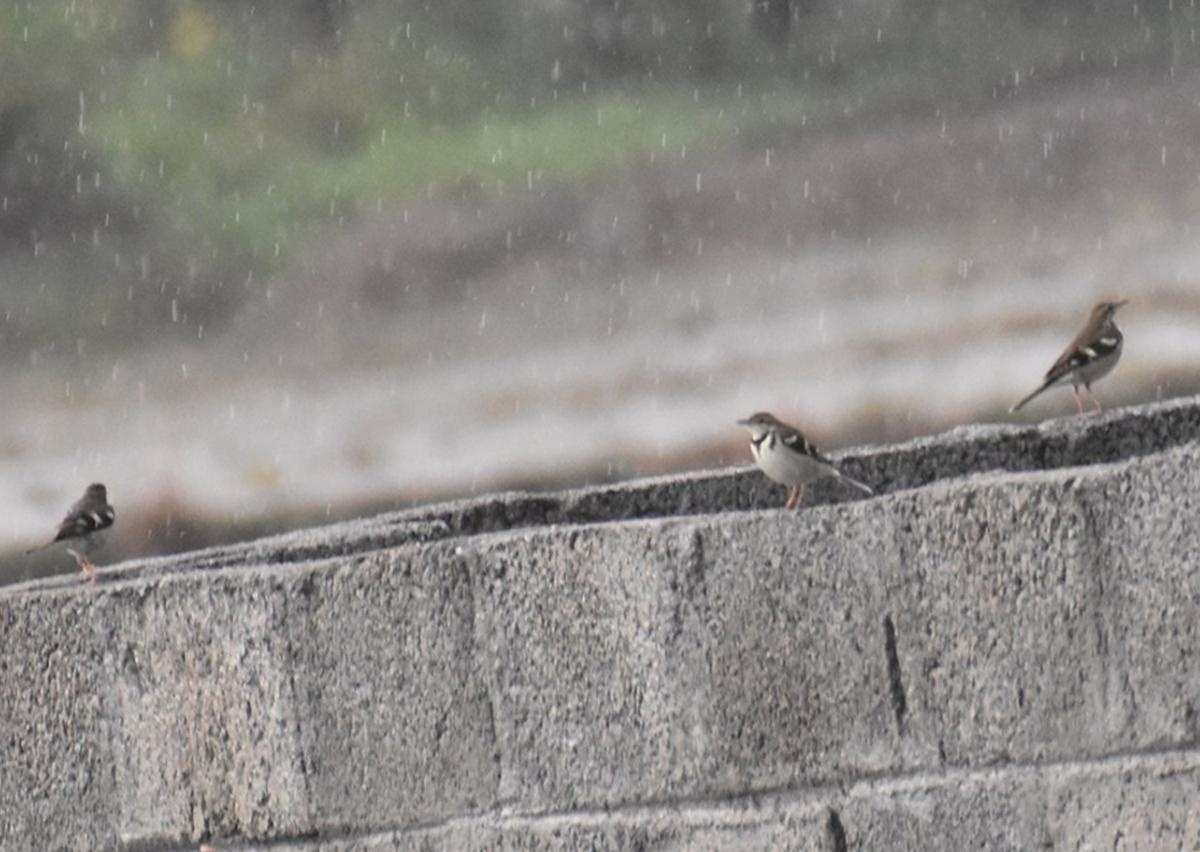wagtail: (729, 392, 863, 532), (1024, 278, 1134, 417)
